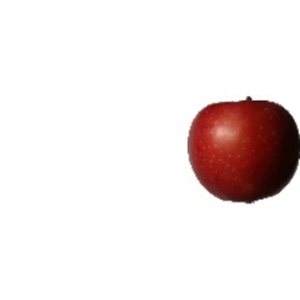maçã braeburn: (186, 97, 300, 205)
